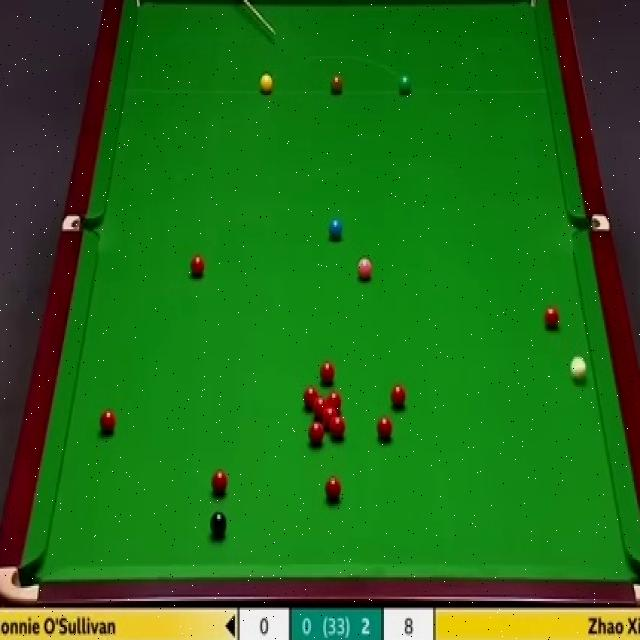black-ball: (210, 510, 229, 536)
blue-ball: (328, 216, 343, 244)
brown-ball: (329, 73, 344, 94)
green-ball: (398, 74, 412, 94)
pink-ball: (357, 259, 373, 283)
red-ball: (324, 475, 343, 503), (97, 406, 115, 434), (543, 304, 562, 330), (302, 384, 320, 411), (388, 384, 408, 408), (318, 360, 338, 384), (376, 416, 394, 442), (212, 468, 230, 494), (328, 418, 346, 442), (326, 392, 343, 417), (308, 420, 324, 446), (312, 398, 330, 420), (190, 257, 205, 277), (322, 408, 337, 427)
white-ball: (567, 354, 589, 385)
yellow-ball: (259, 73, 273, 94)
